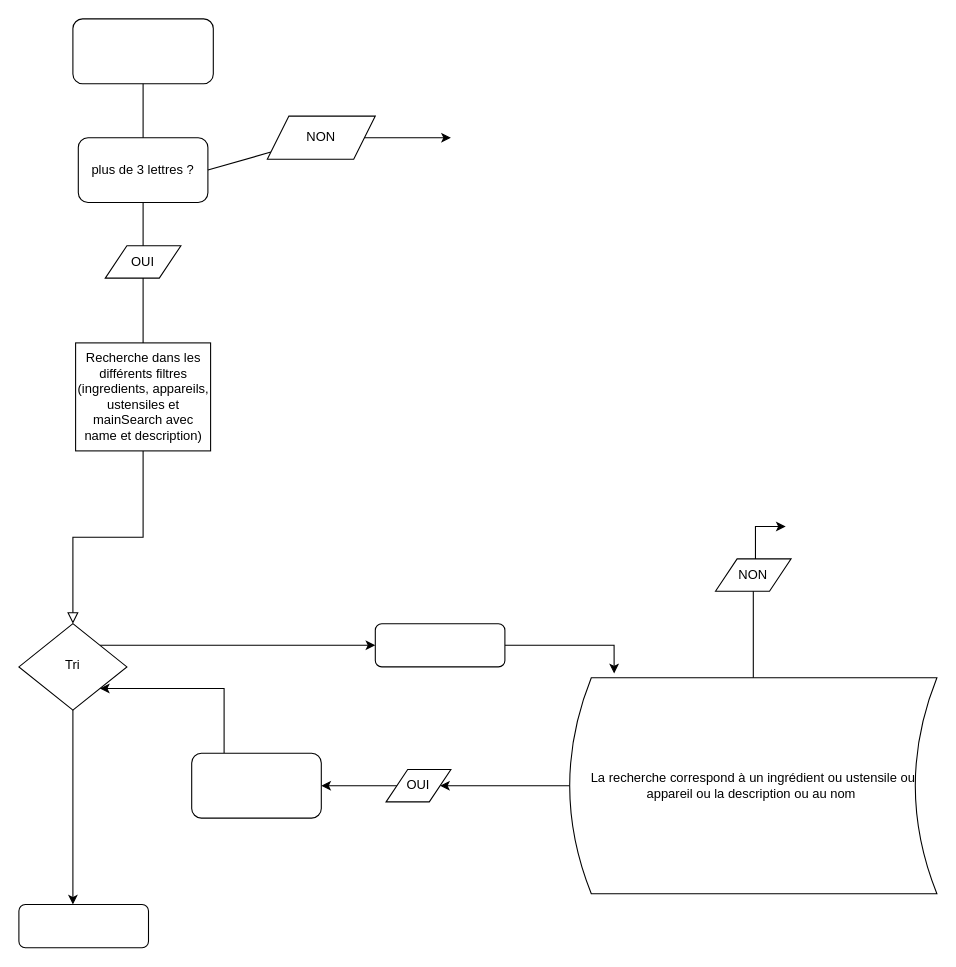
Some shapes in this 956 by 967 pixel diagram are drawn without their labels. Here are the shapes that lost their labels. From the top down, the centre of each, then its label:
At pixel 142 51: "Recherche de l'utilisateur dans la barre de recherche principale".
At pixel 439 645: "Pour chaque recette".
At pixel 256 785: "Ajout au tableau".
At pixel 83 925: "Tableau final avec les recettes".
